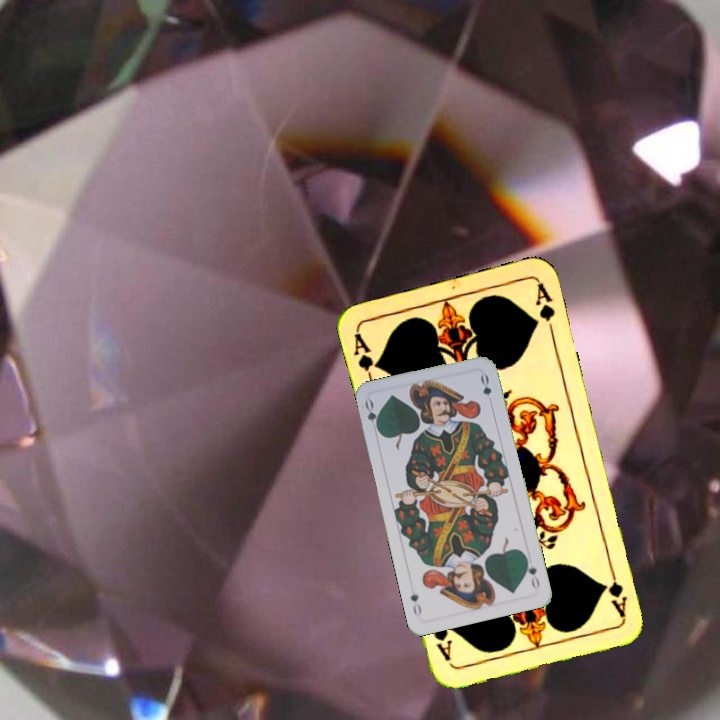GA: (349, 328, 382, 387), (604, 561, 630, 620)
GO: (361, 396, 383, 436), (521, 553, 542, 592)
